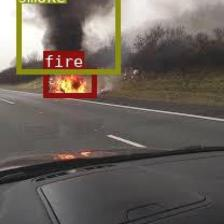fire: (44, 68, 96, 96)
smoke: (16, 0, 119, 74)
